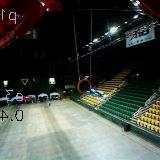Orange_Circle_GShape: (77, 78, 92, 95)
Yellow_Triangle_Gshape: (20, 79, 29, 86)
